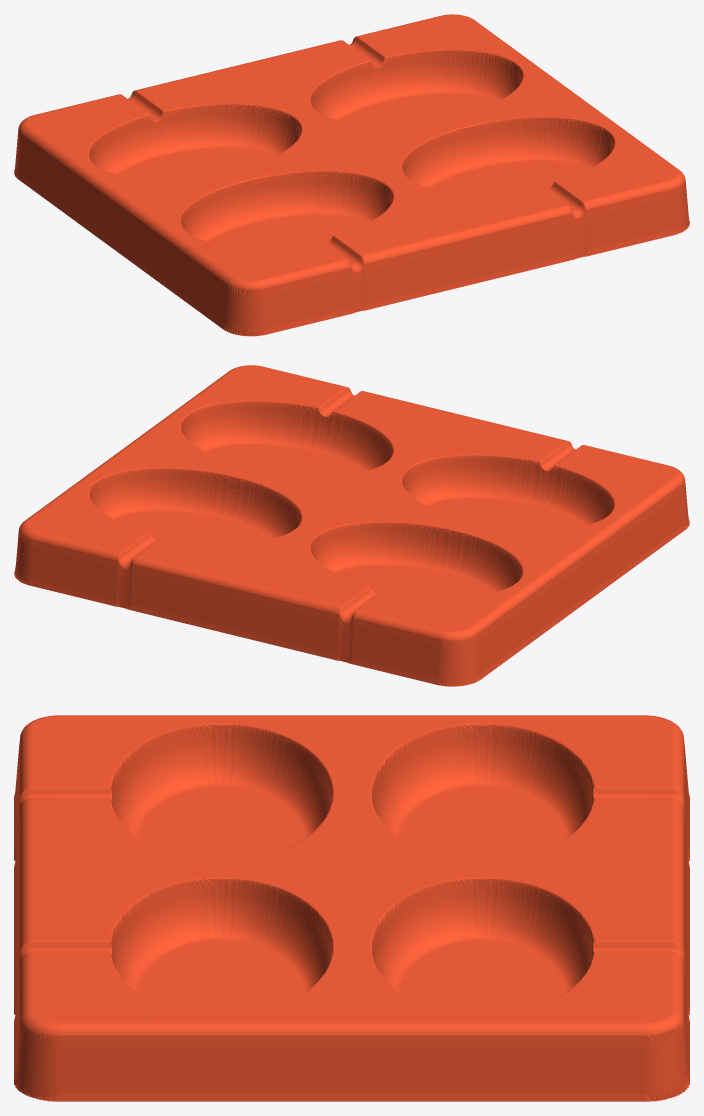
The model's file is mold.glb.
3 views of the same model, one above another, from view 1: azimuth 30°, elevation 25°; view 2: azimuth 150°, elevation 25°; view 3: azimuth 270°, elevation 25° (orthographic). The views are drawn at different scales.
Parts seen in each view (by area): view 1: geometry_0; view 2: geometry_0; view 3: geometry_0.
Part boxes in pixels (<box>): geometry_0: <box>14,14,689,336</box>; geometry_0: <box>14,365,689,686</box>; geometry_0: <box>14,715,689,1101</box>.
Size of the model in its own units: 0.1497 by 0.0155 by 0.1329.
